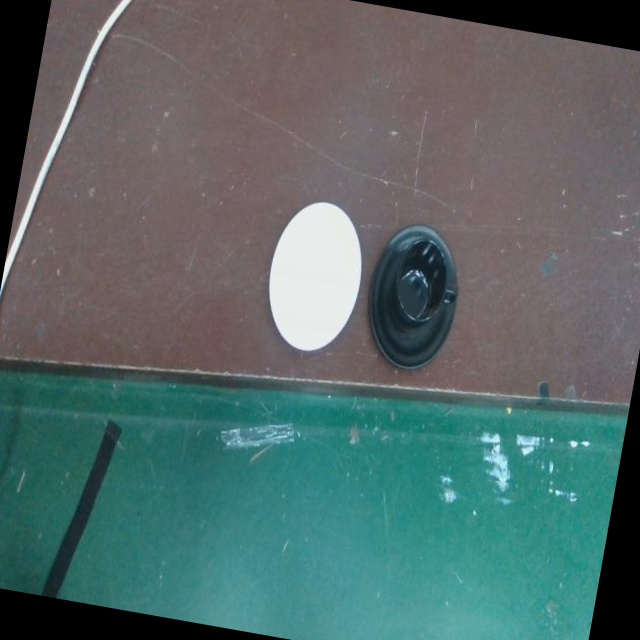black: (367, 220, 459, 376)
white: (267, 198, 363, 354)
